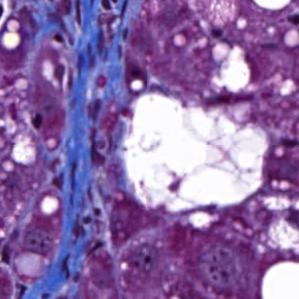ballooning: (121, 88, 272, 231)
